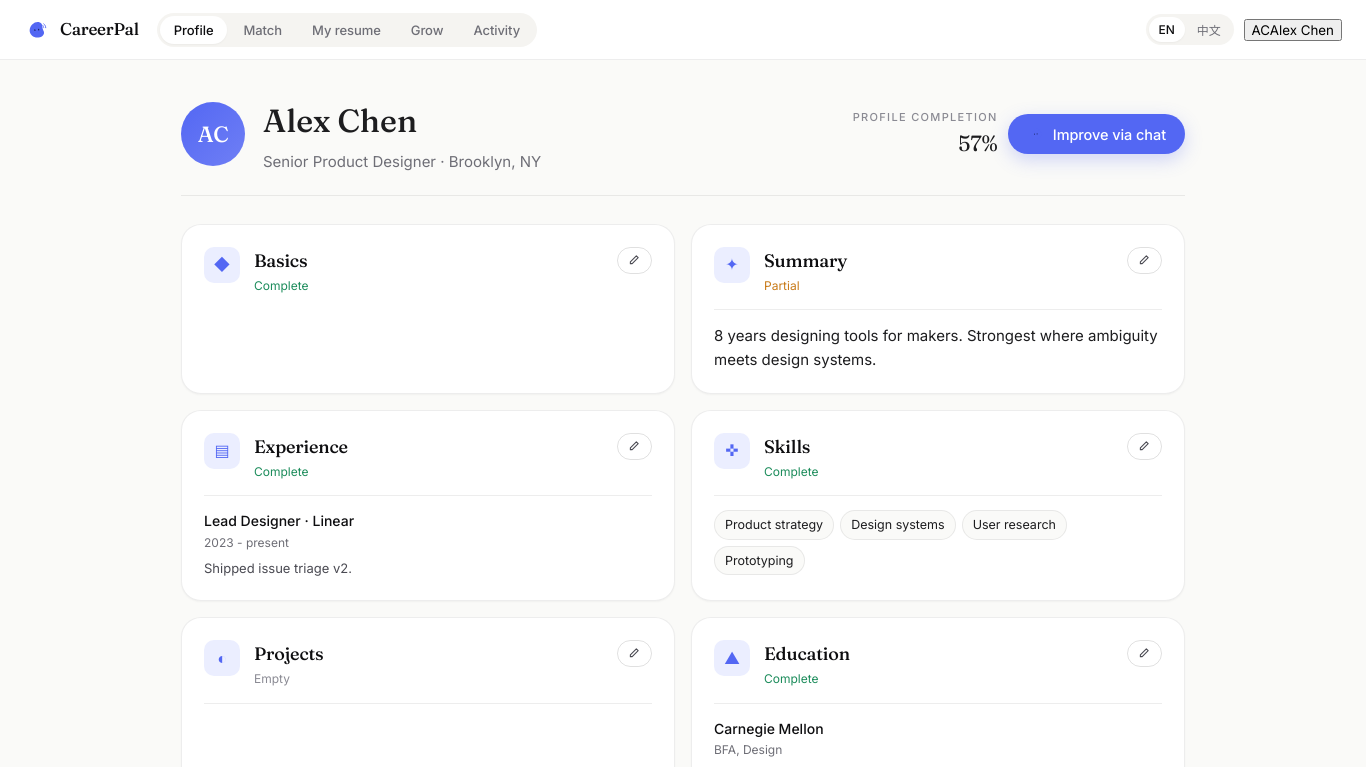
Workspace › opens improve overlay from profile dashboard
This screenshot has width=1366, height=767.
Click the button "Improve via chat".
click(1096, 134)  # box [1008, 114, 1185, 154]
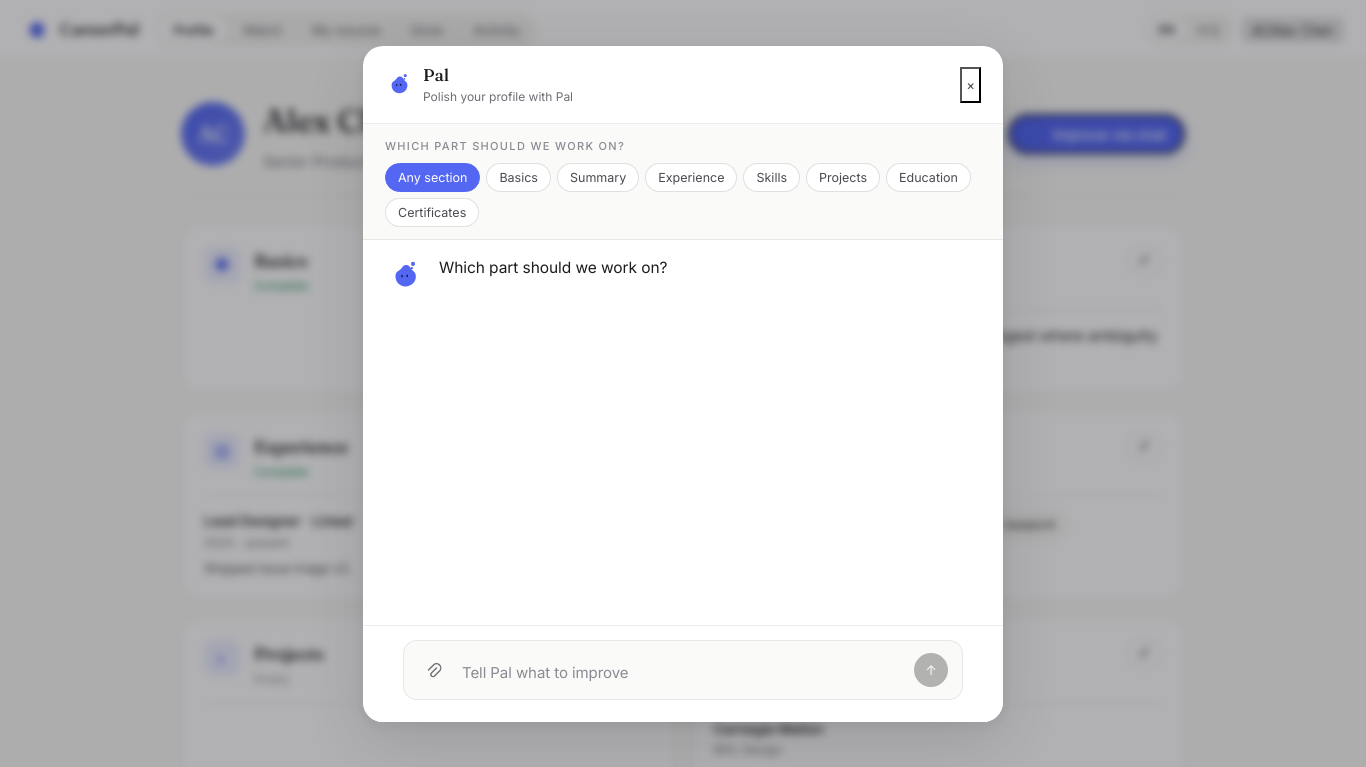
expect the 1st text "Which part should we work on?" is shown: met, box [385, 139, 625, 153]
Click the button "Skills".
click(772, 178)  # box [744, 163, 800, 192]
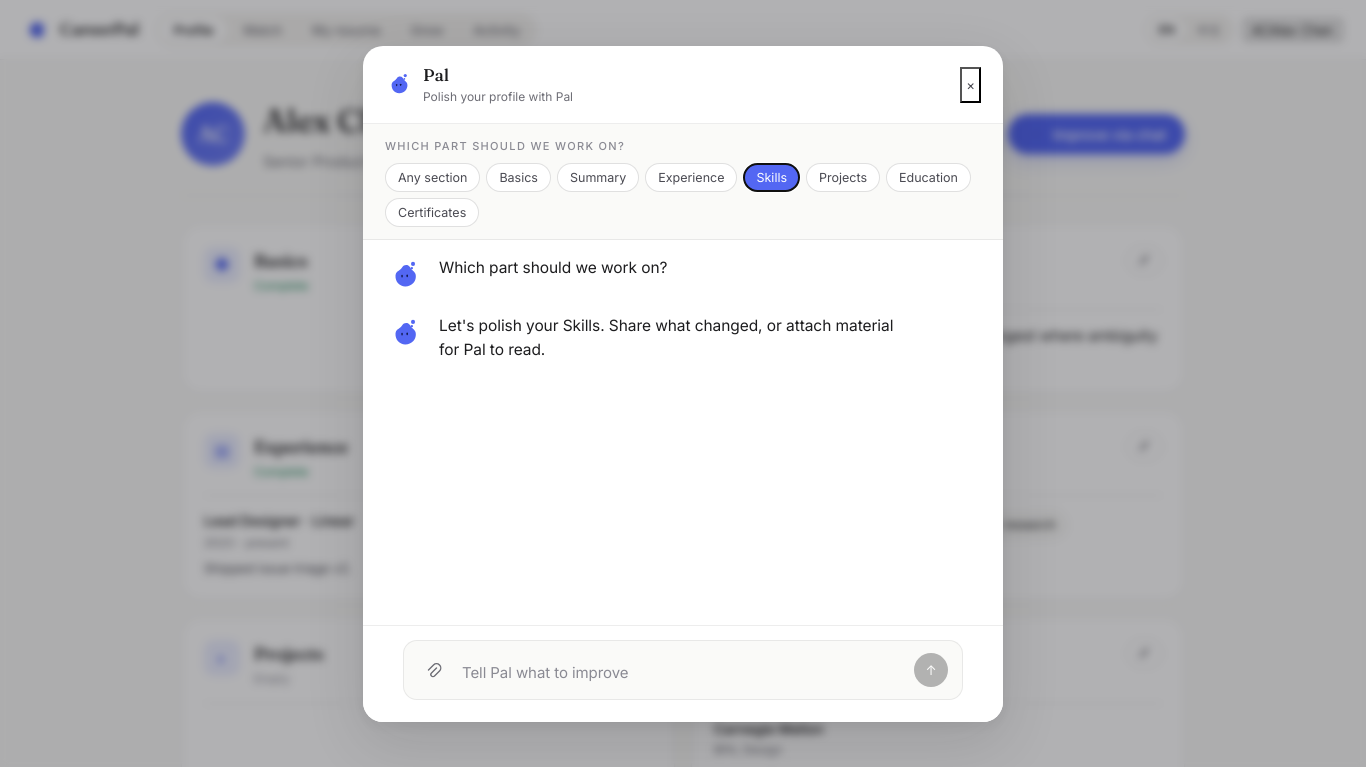
expect the text "Let's polish your Skills" is shown: met, box [439, 316, 893, 359]
